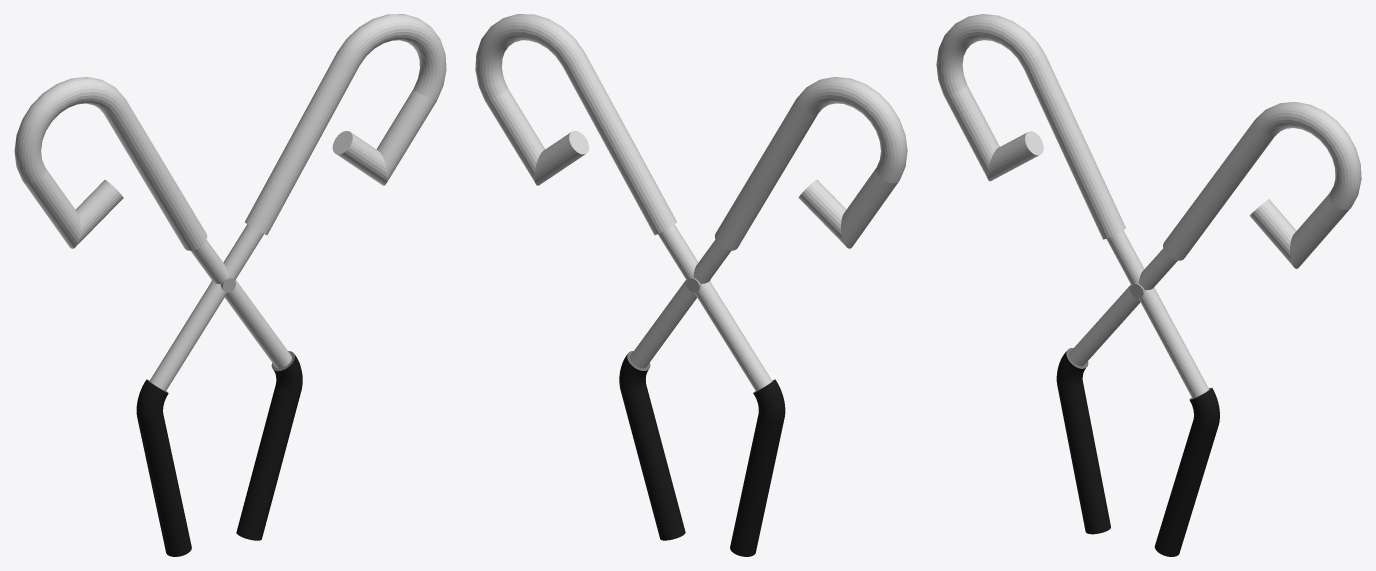
3 renders of one model, left to right at view 1: azimuth 30°, elevation 25°; view 2: azimuth 150°, elevation 25°; view 3: azimuth 330°, elevation 25°, orthographic.
Parts seen in each view (by area): view 1: Component#1; view 2: Component#1; view 3: Component#1.
Part boxes in pixels (left/top/right/bottom): Component#1: left=14, top=14, right=446, bottom=556; Component#1: left=475, top=14, right=907, bottom=556; Component#1: left=936, top=14, right=1361, bottom=556.
Size of the model in its own units: 7.28 by 8.15 by 0.3918.
5 materials, 1 textured.
